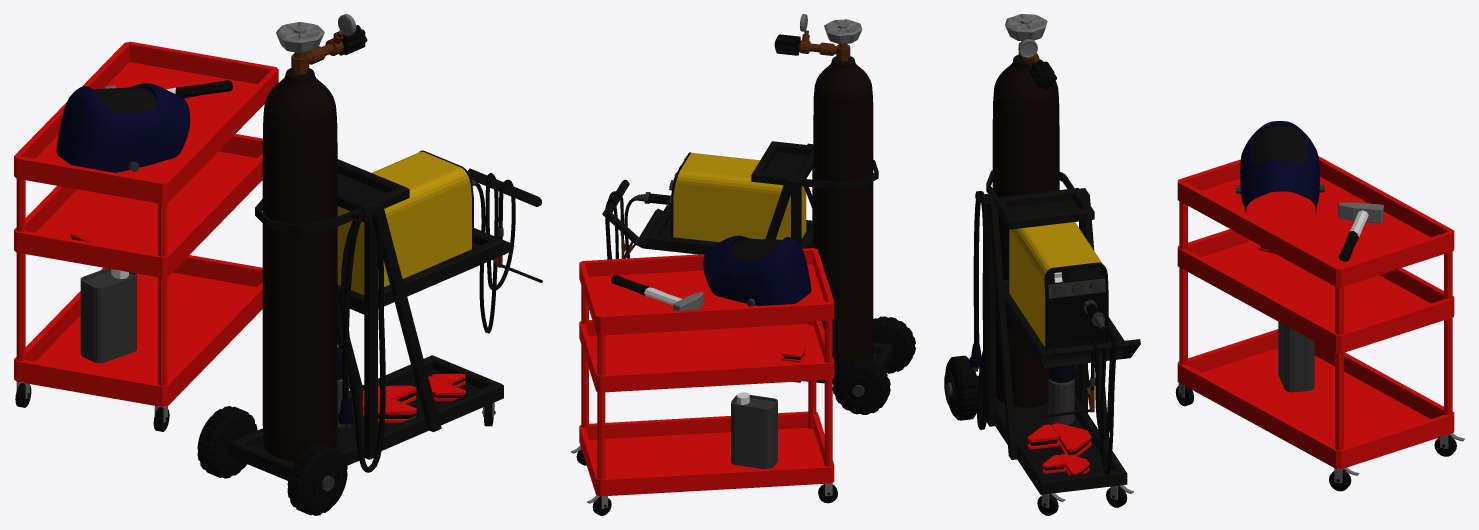
Rendered from welding machine.obj.
The picture shows the model from 3 angles, left to right: view 1: azimuth 30°, elevation 25°; view 2: azimuth 150°, elevation 25°; view 3: azimuth 270°, elevation 25°; orthographic projection. The views are drawn at different scales.
Visible parts, largest first — view 1: Cylinder.080, Cube.250, Cube.252, Cube.251, Cube.105, Cube.221, Plane.066, Cylinder.086, Cube.285, BezierCurve, Plane.067, Plane.069 (+8 smaller); view 2: Cylinder.080, Cube.250, Cube.251, Cube.252, Cube.105, Cube.221, Cylinder.086, Cube.285, Plane.067, Plane.068, Cylinder.218, Cylinder.217 (+10 smaller); view 3: Cube.250, Cube.252, Cube.251, Cylinder.080, Cube.105, Plane.066, Cube.106, Cube.221, Plane.068, Plane.069, Plane.067, Cylinder.218 (+10 smaller).
Part boxes in pixels (x1,y1,x2,y2): Cylinder.080: [262, 68, 337, 461]; Cube.250: [14, 255, 262, 406]; Cube.252: [14, 41, 278, 203]; Cube.251: [14, 134, 262, 277]; Cube.105: [337, 151, 471, 295]; Cube.221: [56, 83, 190, 172]; Plane.066: [228, 355, 503, 480]; Cylinder.086: [197, 406, 347, 515]; Cube.285: [80, 268, 136, 363]; BezierCurve: [340, 209, 385, 472]; Plane.067: [337, 168, 542, 314]; Plane.069: [337, 203, 441, 432]; Cylinder.080: [813, 56, 873, 370]; Cube.250: [579, 411, 834, 496]; Cube.251: [579, 320, 834, 392]; Cube.252: [579, 248, 834, 333]; Cube.105: [673, 153, 806, 242]; Cube.221: [703, 235, 811, 305]; Cylinder.086: [832, 316, 915, 414]; Cube.285: [731, 395, 777, 468]; Plane.067: [602, 179, 813, 254]; Plane.068: [751, 141, 813, 185]; Cylinder.218: [581, 286, 605, 479]; Cylinder.217: [808, 320, 832, 466]; Cube.250: [1177, 329, 1454, 469]; Cube.252: [1177, 156, 1454, 287]; Cube.251: [1177, 229, 1454, 353]; Cylinder.080: [992, 54, 1059, 407]; Cube.105: [1009, 222, 1102, 346]; Plane.066: [977, 375, 1127, 494]; Cube.106: [1044, 262, 1108, 349]; Cube.221: [1240, 121, 1319, 213]; Plane.068: [993, 188, 1094, 229]; Plane.069: [988, 190, 1109, 459]; Plane.067: [995, 279, 1140, 368]; Cylinder.218: [1335, 251, 1452, 450].
Bounding box in the file's own units: 1.58 × 1.73 × 2.
